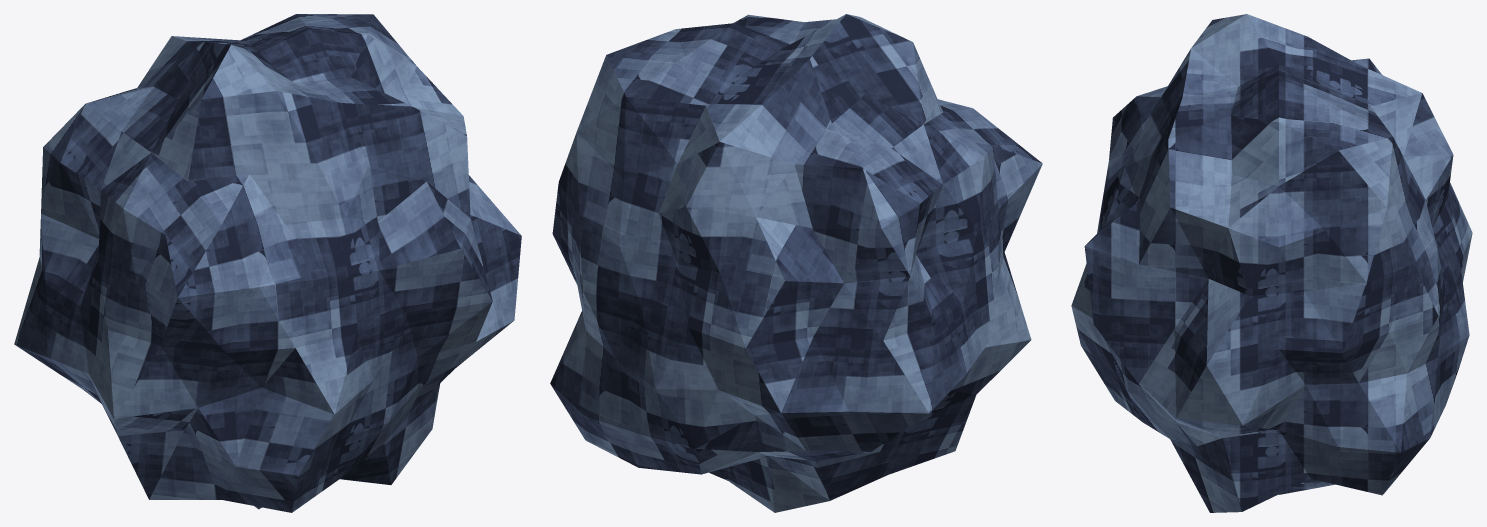
File: asteroid_4.glb
3 renders of one model, left to right at view 1: azimuth 30°, elevation 25°; view 2: azimuth 150°, elevation 25°; view 3: azimuth 270°, elevation 25°, orthographic. The views are drawn at different scales.
Parts seen in each view (by area): view 1: asteroid_4; view 2: asteroid_4; view 3: asteroid_4.
Part boxes in pixels (box(x1,y1,x2,y2)): asteroid_4: box(14, 14, 521, 512); asteroid_4: box(550, 14, 1042, 512); asteroid_4: box(1071, 14, 1472, 512).
Size of the model in its own units: 2.38 by 2.64 by 2.08.
Materials: 1 (1 with a texture image).
